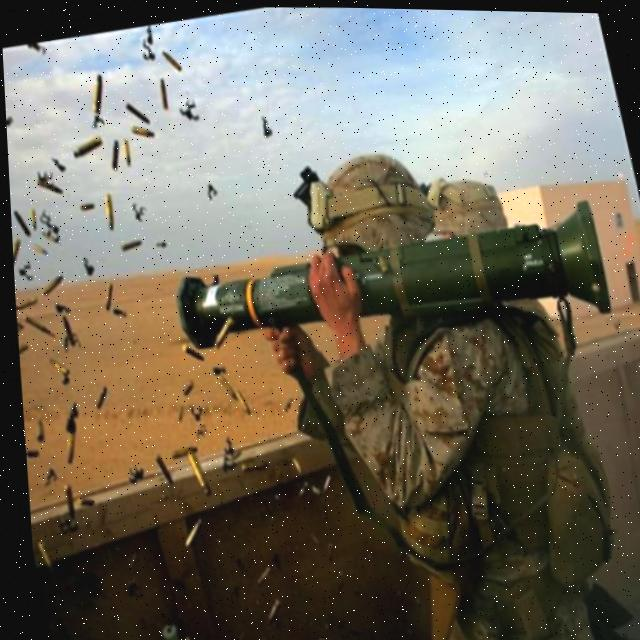rocket: (161, 170, 622, 391)
